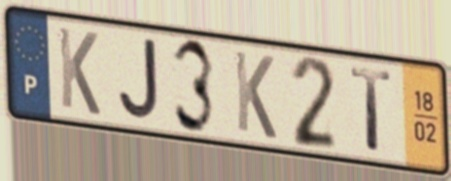2: (288, 54, 339, 152)
3: (169, 37, 225, 137)
J: (116, 37, 161, 125)
K: (231, 46, 279, 143), (55, 22, 102, 119)
T: (348, 65, 396, 156)
